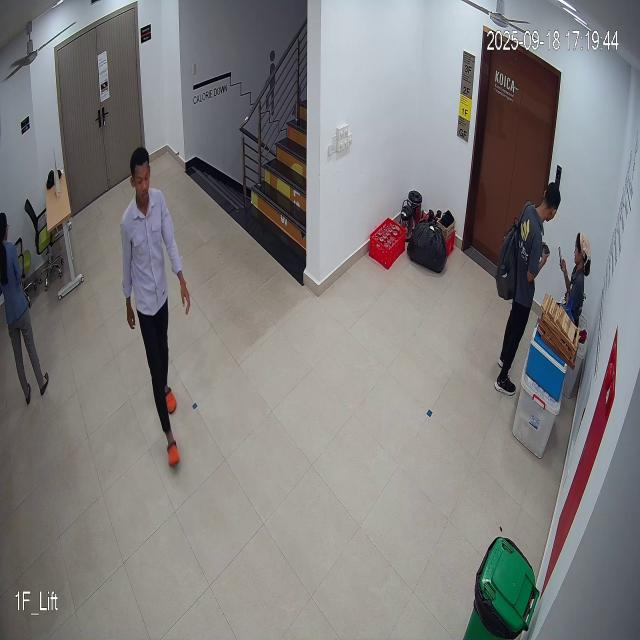face: (128, 144, 157, 209)
